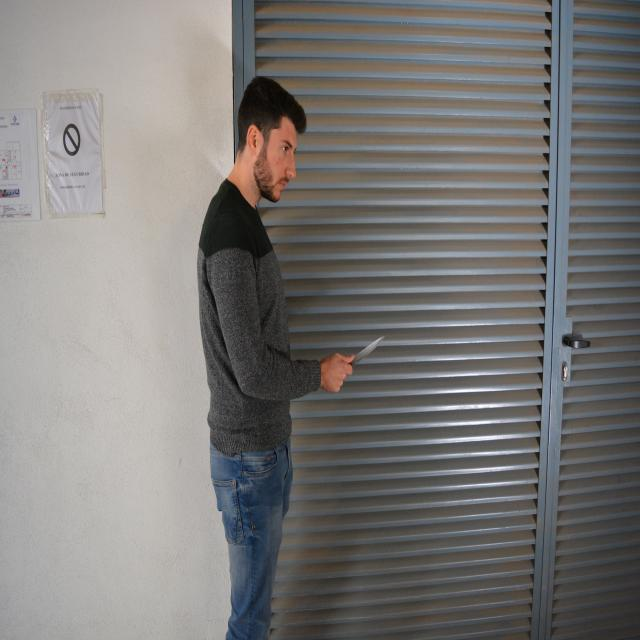knife: (353, 334, 385, 374)
